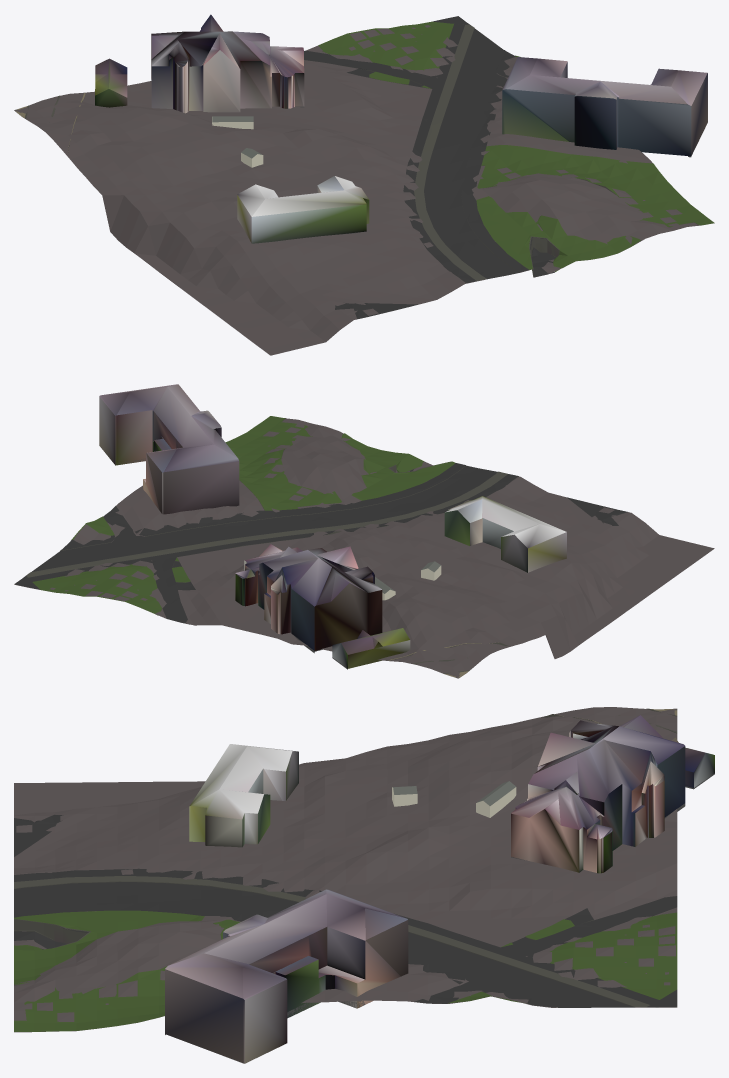
3 views of the same model, one above another, from view 1: azimuth 30°, elevation 25°; view 2: azimuth 150°, elevation 25°; view 3: azimuth 270°, elevation 25° (orthographic). The views are drawn at different scales.
Visible parts, largest first — view 1: c_m06_m12; view 2: c_m06_m12; view 3: c_m06_m12.
Part boxes in pixels (x1,y1,x2,y2): c_m06_m12: [14, 14, 714, 355]; c_m06_m12: [14, 384, 714, 678]; c_m06_m12: [14, 707, 714, 1063].
Size of the model in its own units: 152 by 32.06 by 135.
